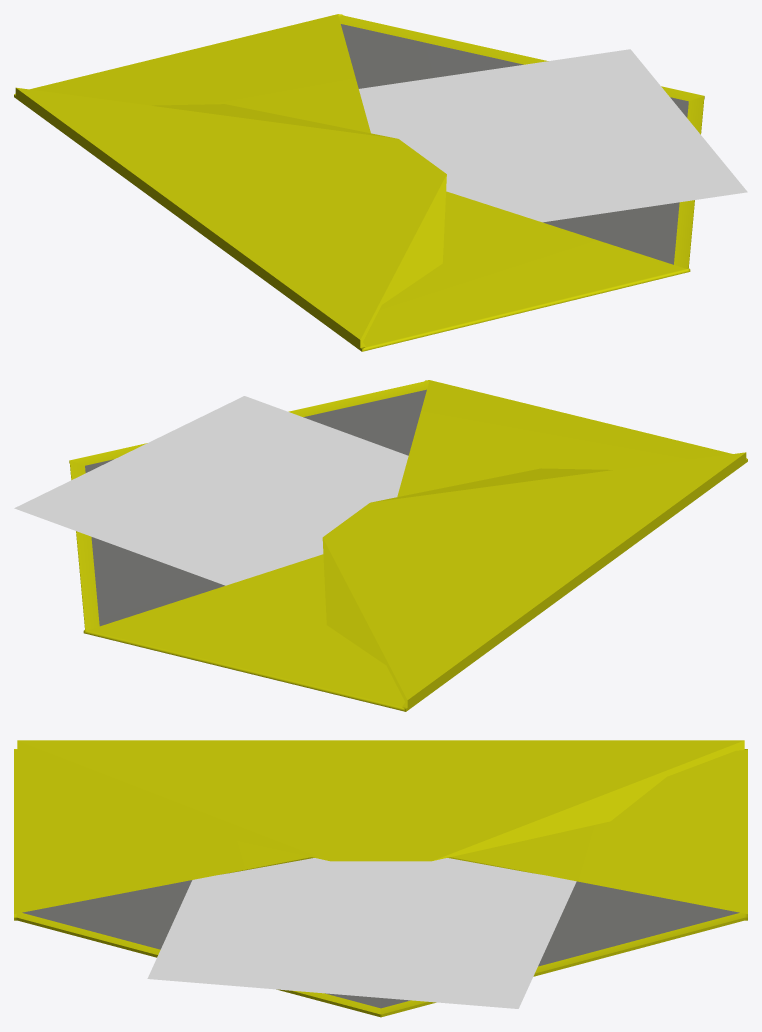
Rendered from envelope.fbx.
The picture shows the model from 3 angles, top to bottom: view 1: azimuth 30°, elevation 25°; view 2: azimuth 150°, elevation 25°; view 3: azimuth 270°, elevation 25°; orthographic projection. The views are drawn at different scales.
Parts seen in each view (by area): view 1: pCube4; view 2: pCube4; view 3: pCube4.
Boxes of the visible parts, box(x1,y1,x2,y2) form: pCube4: box(14, 14, 747, 351); pCube4: box(14, 380, 747, 711); pCube4: box(14, 740, 747, 1017).
Bounding box in the file's own units: 12.27 × 0.243 × 14.33.
